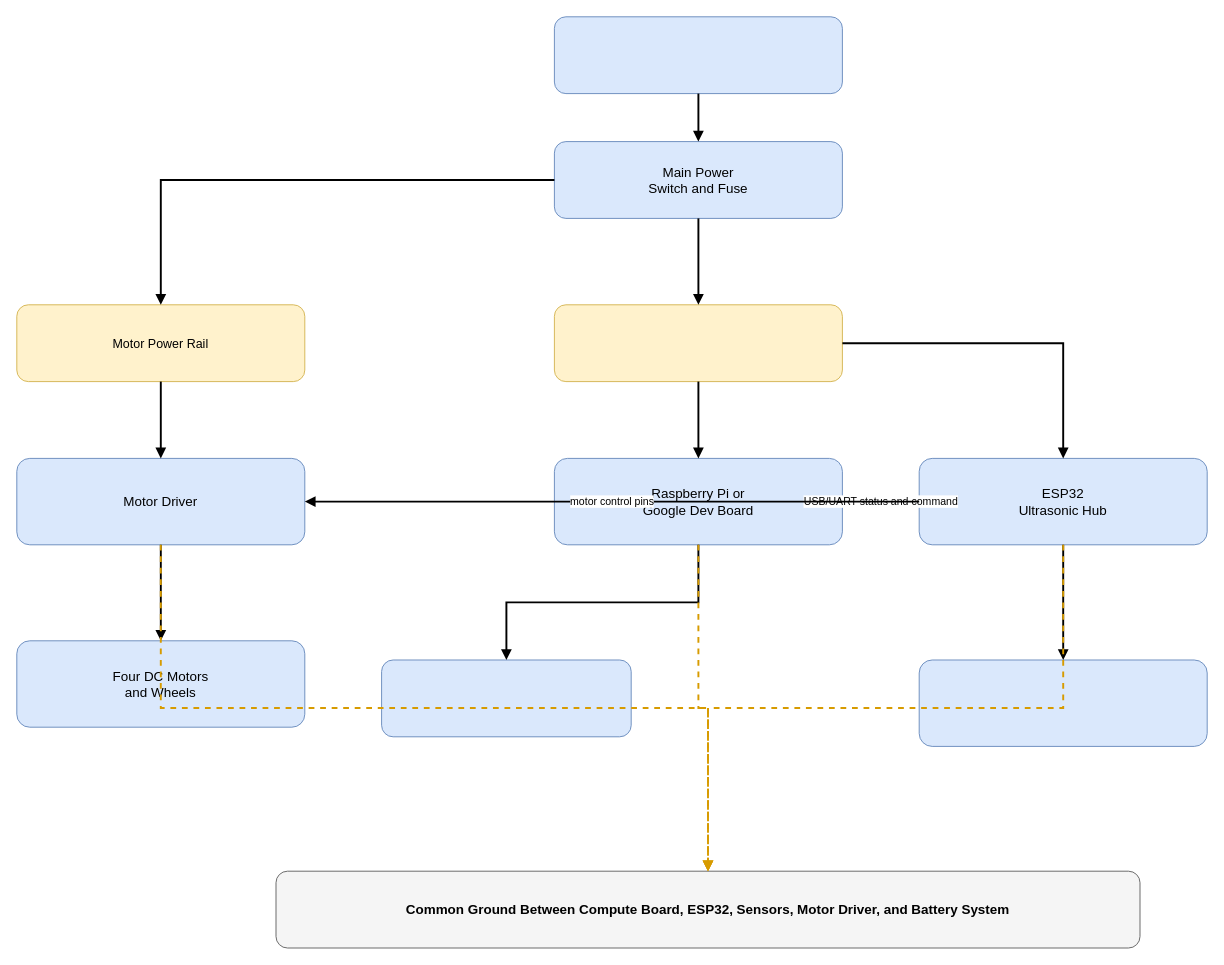
Image size: 1224x965. Some labels were removed from this diagram. Each missing label, with the centre of its shape:
"Battery Pack" belongs at point 697,55.
"Regulated Logic Supply" belongs at point 697,343.
"Ultrasonic Sensors Front, Left, Right, Rear" belongs at point 1062,702.
"USB Webcam" belongs at point 506,698.
